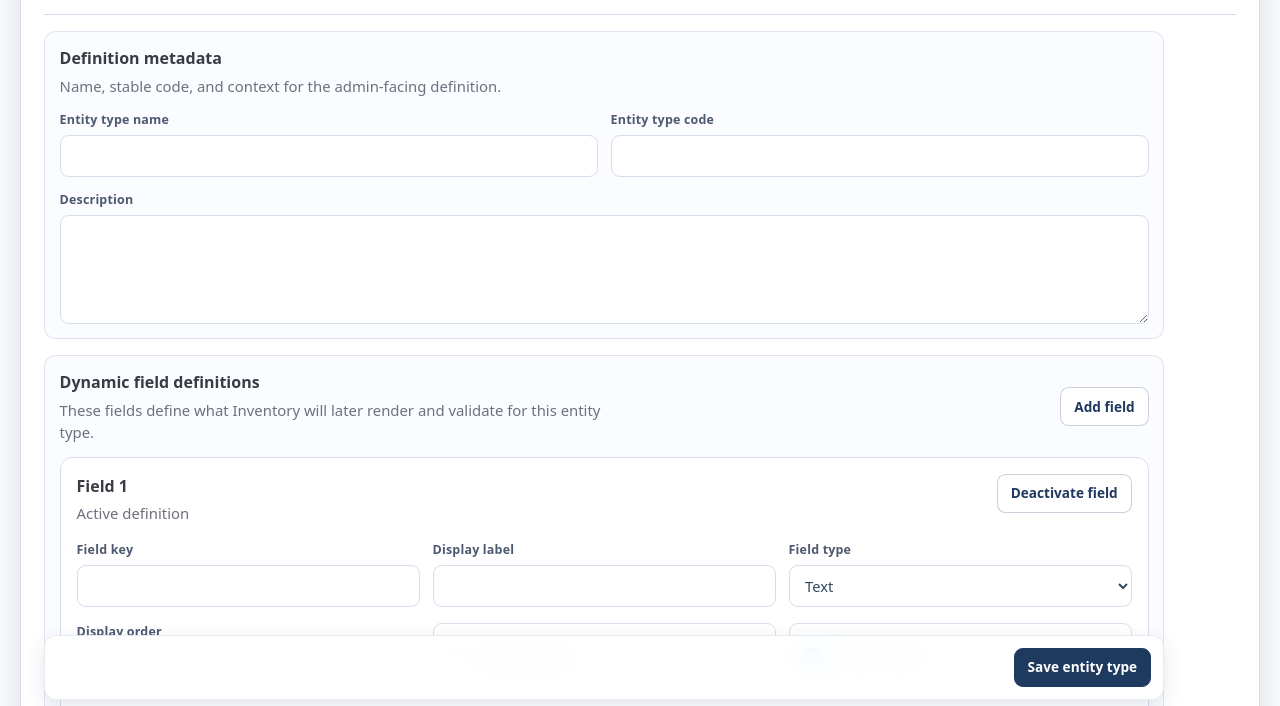
Test: EntityTypeForm › should show the options editor when the field type is select
This screenshot has width=1280, height=706.
Select "Select" in the dropdown labelled "Field type". click: (960, 586)
box: [789,565,1132,607]
(page scrolled)
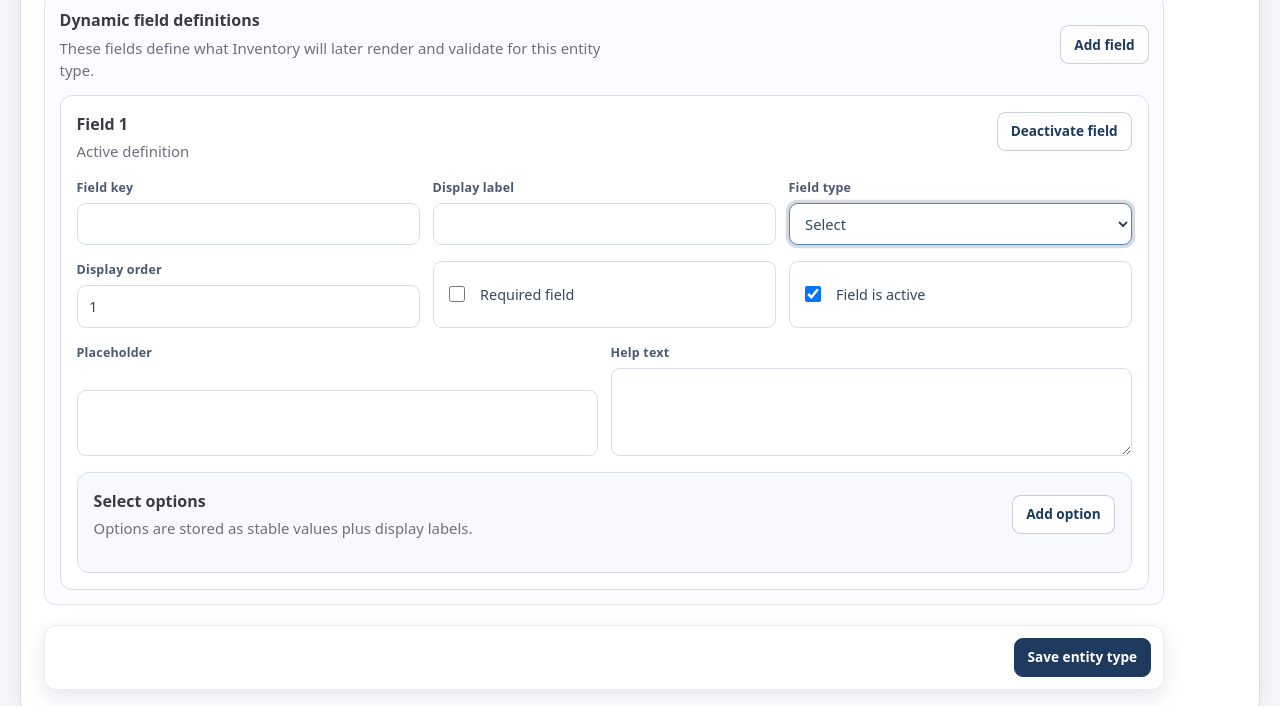
Result: the heading "Select options" is shown at [94,490,206,512]
Result: the button "Add option" is shown at [1012,495,1115,534]
